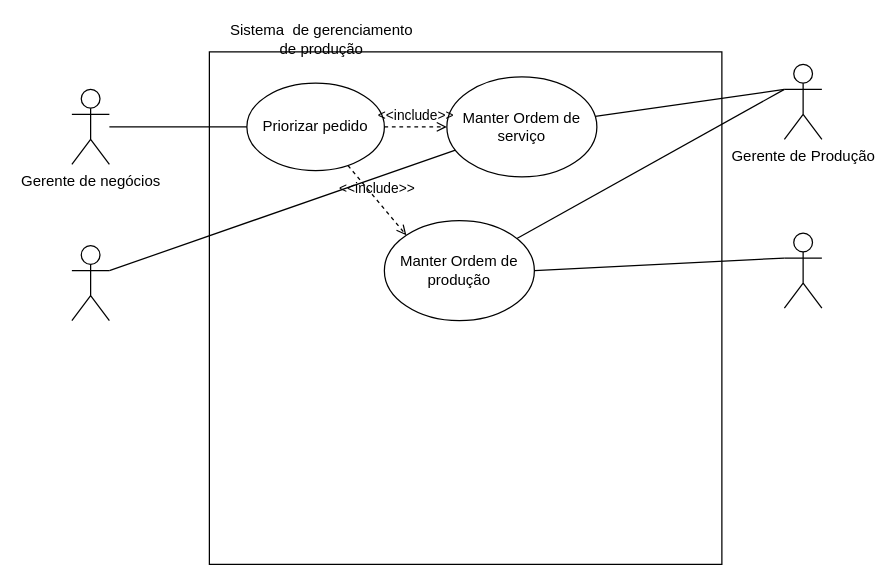
Image size: 896x586. Some labels were removed from this diagram. Each missing label, with the centre of its shape:
Operário: point 802,270
Técnico: point 90,282
